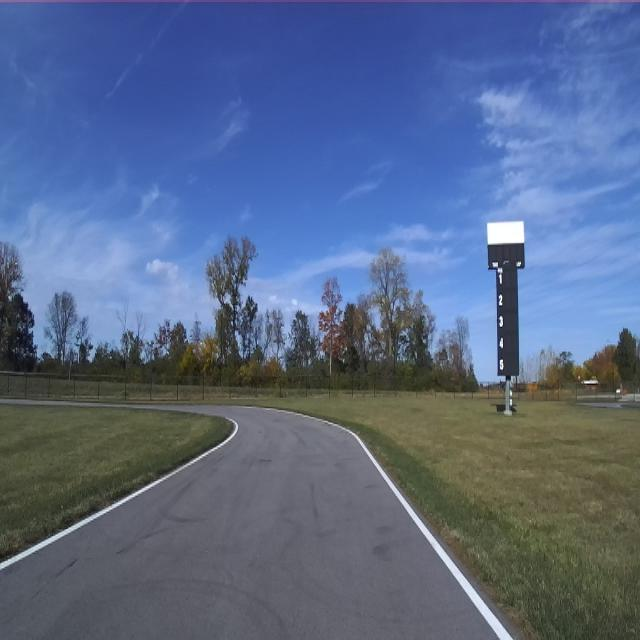white-line: (262, 407, 514, 639), (322, 420, 512, 639), (0, 420, 238, 571), (0, 531, 66, 572)
